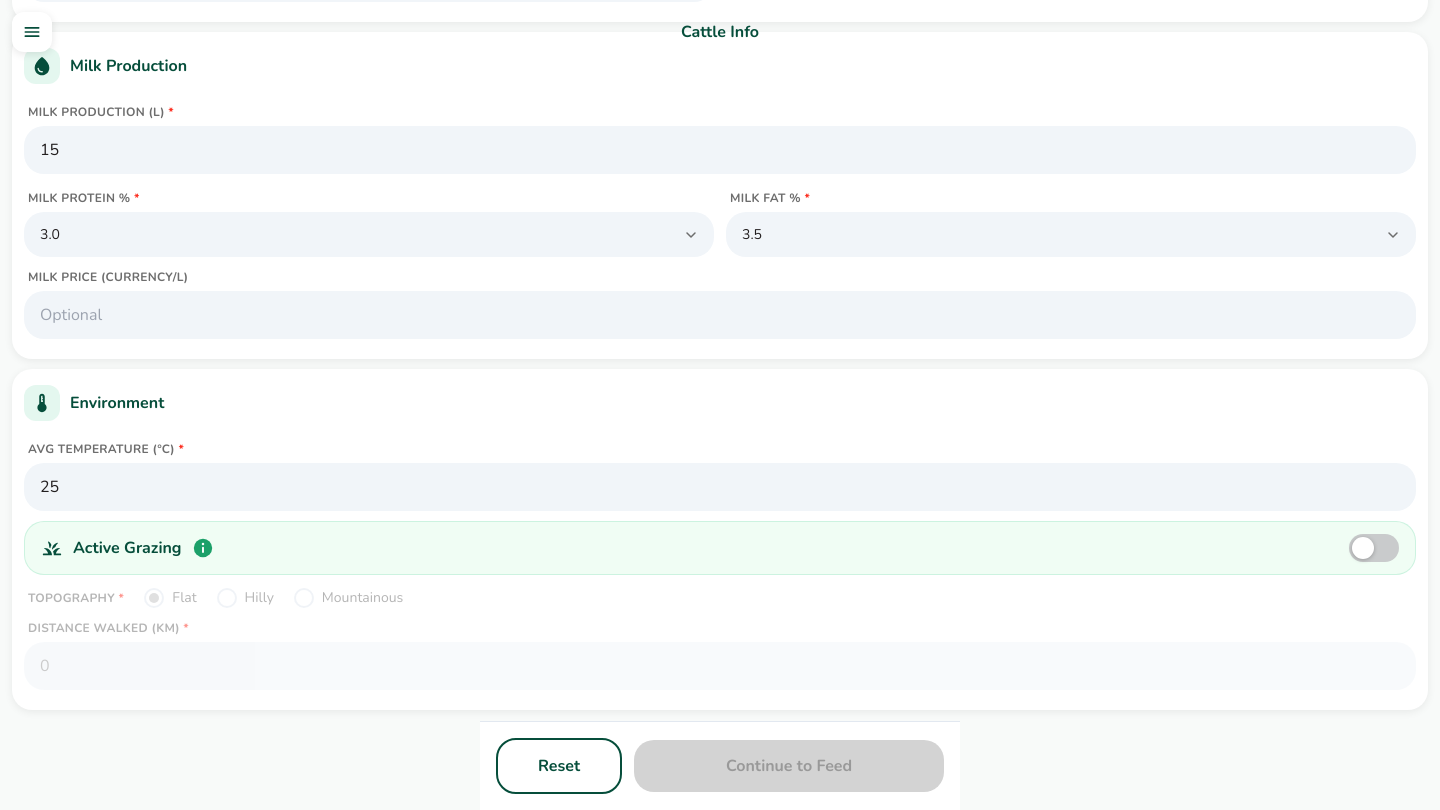
Test: Cattle Info — Active Grazing toggle › shows a min-distance error when grazing is ON and distance < 1 km
(page scrolled)
Click the checkbox.
click(1374, 548)  # box left=1349, top=534, right=1399, bottom=562
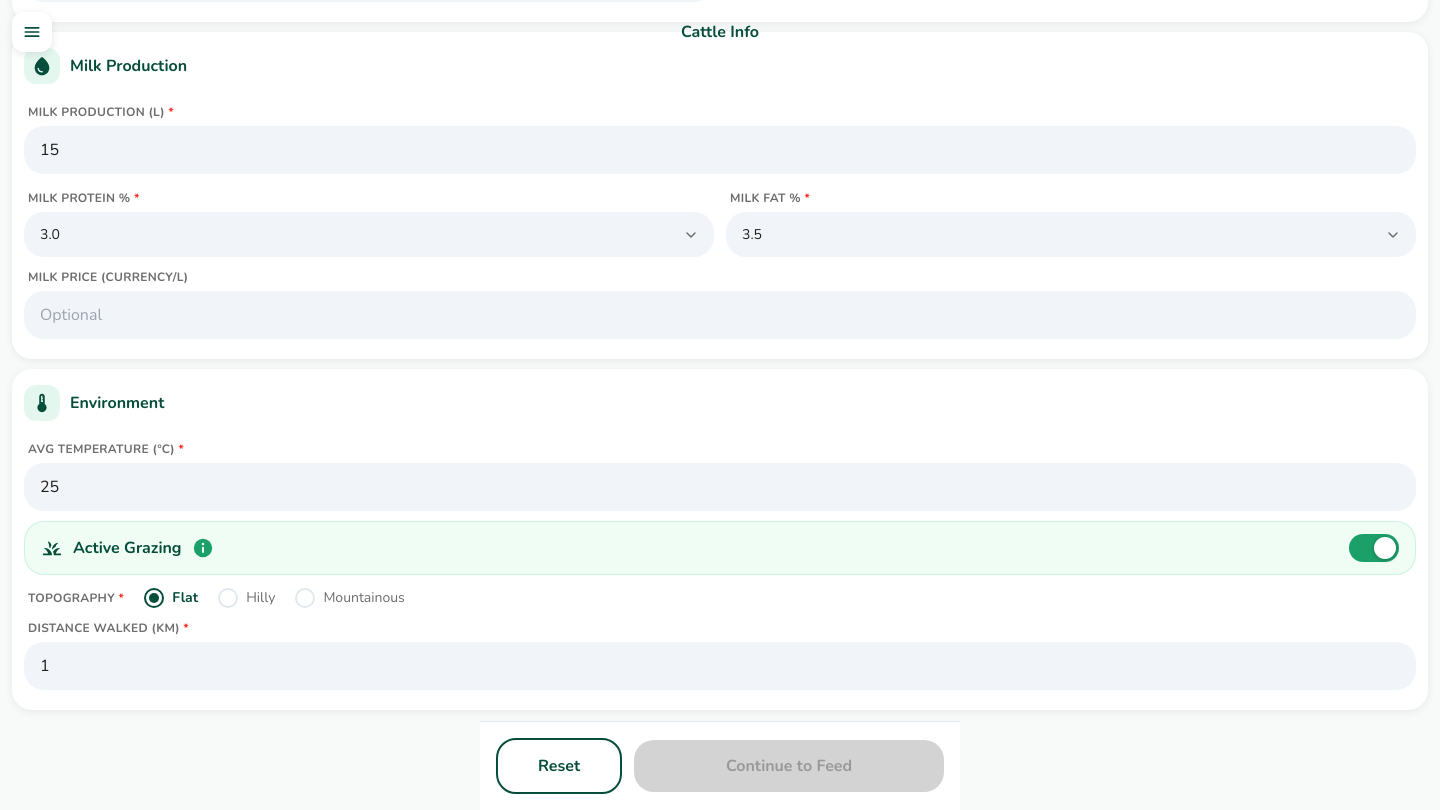
Replace the text in the number field labelled "Distance Walked (km) *" with "0.5" at (720, 666), box left=24, top=642, right=1416, bottom=690
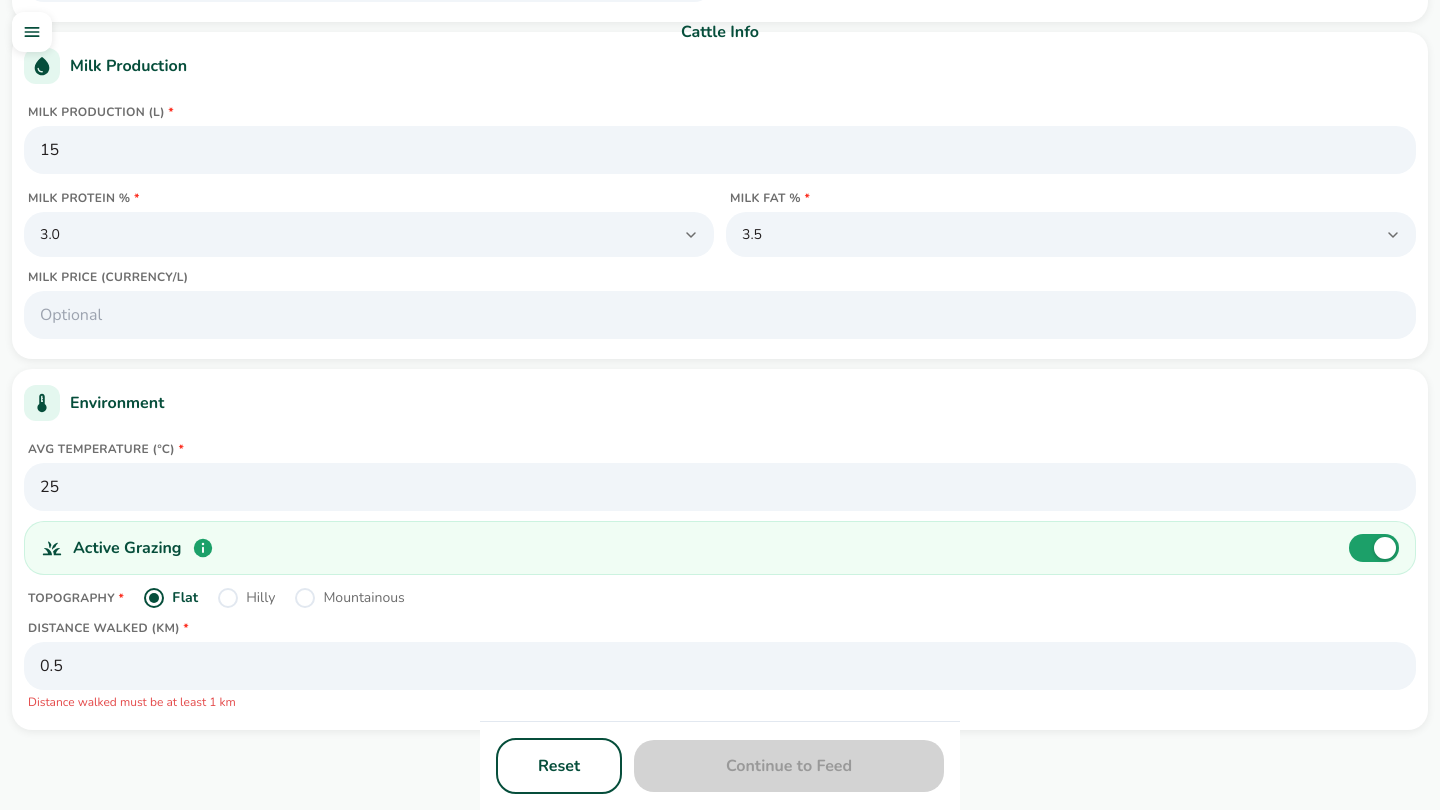
Now the text "Distance walked must be at least 1 km" is shown, box left=28, top=694, right=236, bottom=710
Replace the text in the number field labelled "Distance Walked (km) *" with "2" at (720, 666), box left=24, top=642, right=1416, bottom=690
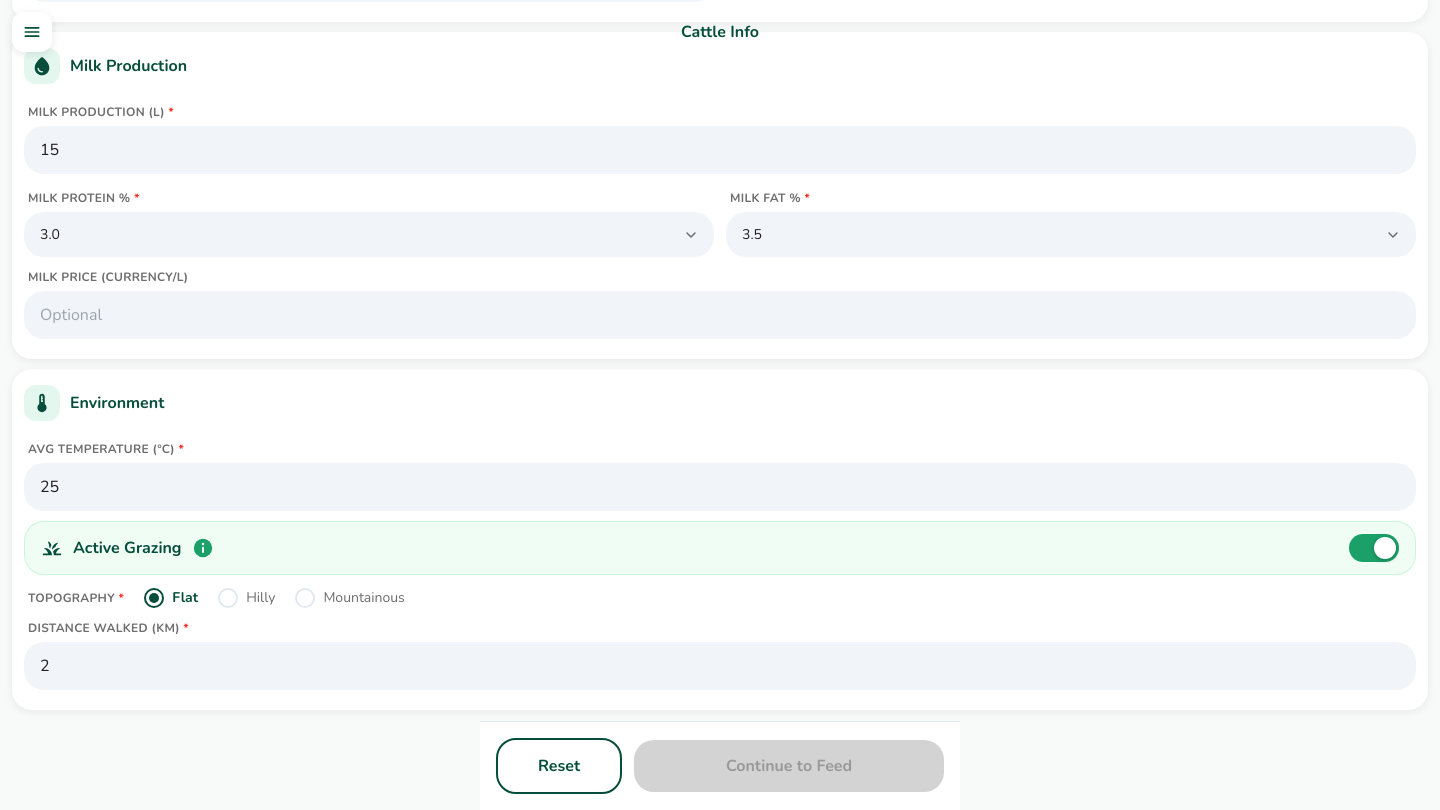
Now the text "Distance walked must be at least 1 km" is gone
